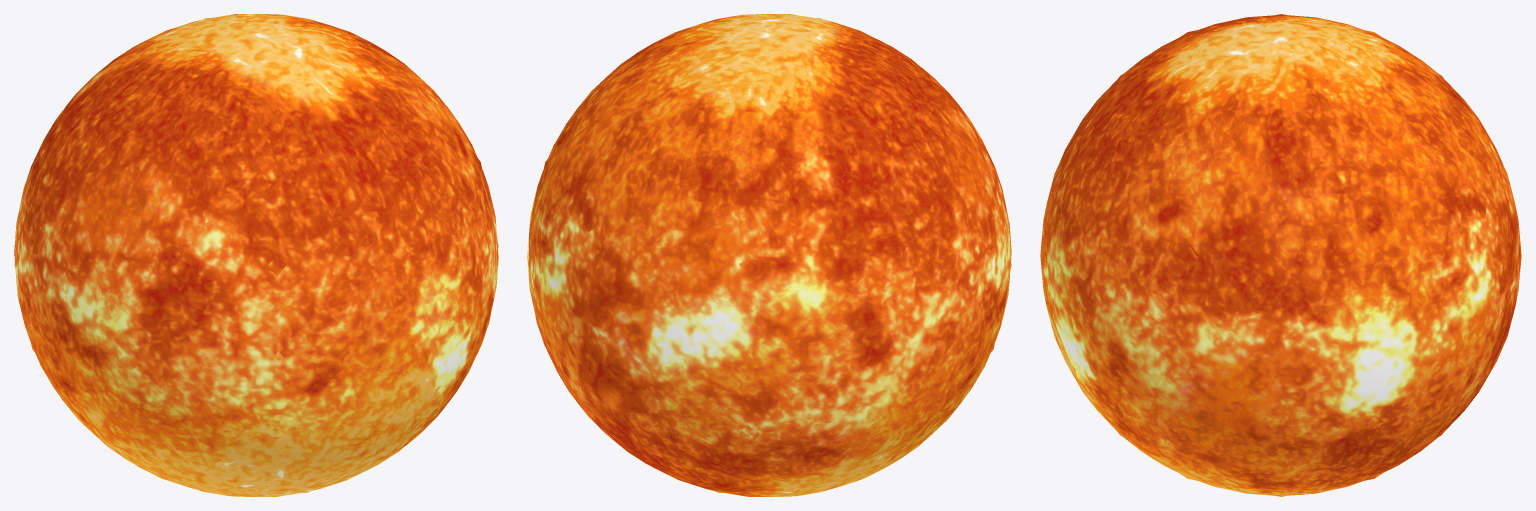
The model's file is sun.glb.
The picture shows the model from 3 angles, left to right: view 1: azimuth 30°, elevation 25°; view 2: azimuth 150°, elevation 25°; view 3: azimuth 270°, elevation 25°; orthographic projection.
Parts seen in each view (by area): view 1: Sun_LOD1__0, Sun_LOD3__0; view 2: Sun_LOD1__0, Sun_LOD3__0; view 3: Sun_LOD1__0, Sun_LOD3__0.
Boxes of the visible parts, <box> form: Sun_LOD1__0: <box>14,14,498,496</box>; Sun_LOD3__0: <box>14,18,498,495</box>; Sun_LOD1__0: <box>527,14,1011,496</box>; Sun_LOD3__0: <box>527,18,1011,495</box>; Sun_LOD1__0: <box>1040,15,1521,495</box>; Sun_LOD3__0: <box>1060,14,1501,496</box>.
Size of the model in its own units: 4.61 by 4.61 by 4.61.
Materials: 1 (1 with a texture image).
